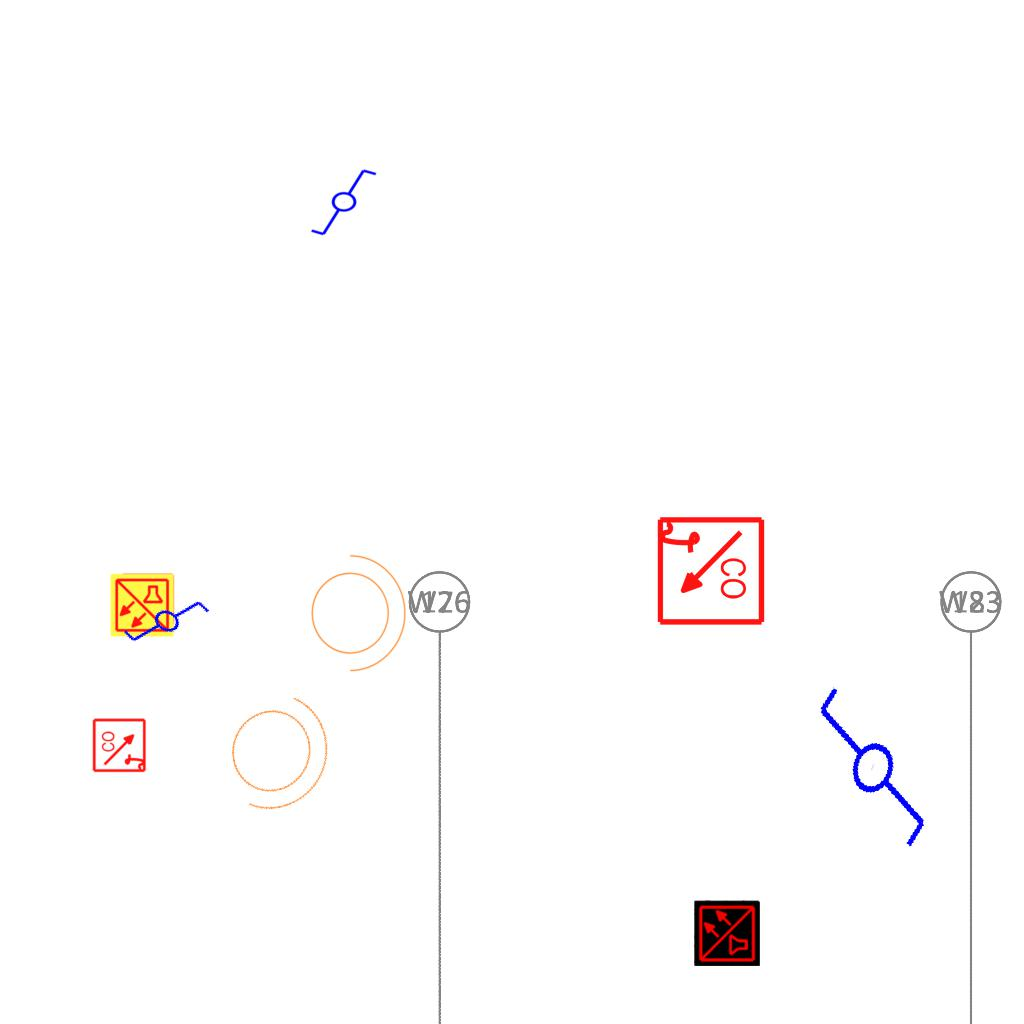OKW_Multisensormelder_(Kombination_optischer_Rauch-Kahlenmonoxid_Waerme-Melder): (694, 900, 760, 966), (109, 572, 175, 638)
ROA_Rauchmelder_optisch_mit_Signalgeber_(Sockelsirene): (653, 515, 766, 628), (92, 717, 148, 773)
Scheinwerfer_fuer_Alarmbeleuchtung: (199, 667, 355, 833), (299, 544, 411, 676)
Wechselschalter: (777, 679, 960, 871), (118, 573, 222, 675), (309, 167, 387, 239)
